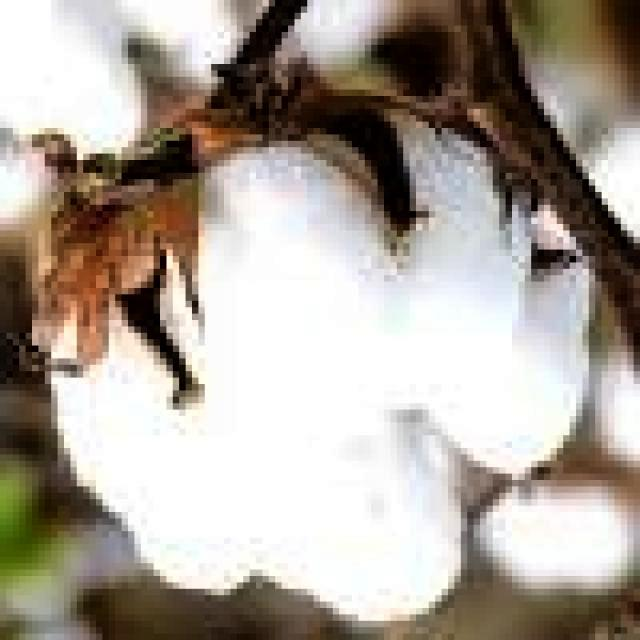Matured Cotton Boll: (38, 92, 592, 628)
